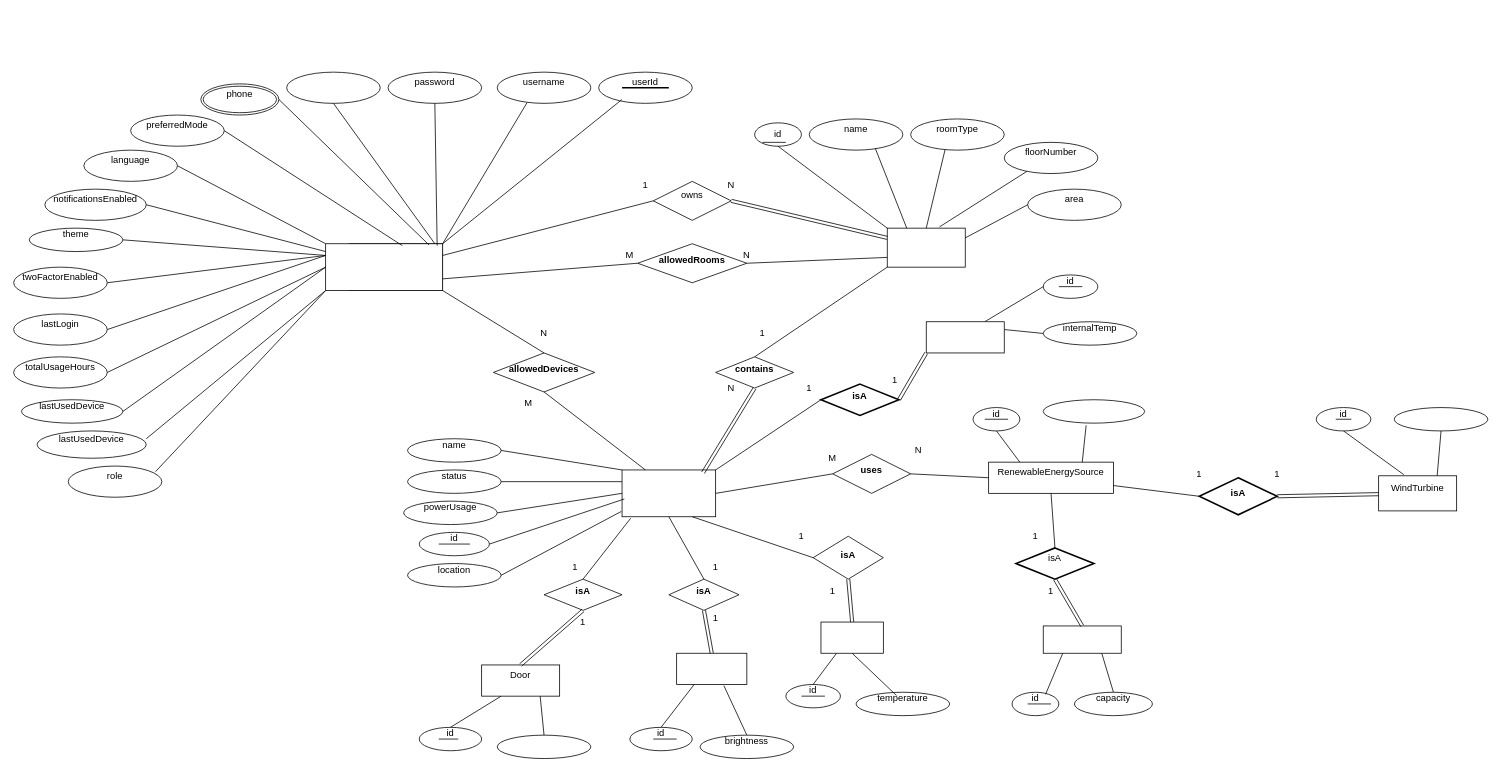
The diagram is 1502 pixels wide and 783 high, and some of its shapes have lost their labels. The shapes that lost their labels are listed below. From the top down, each one's centre as x and y in pixels, then its label:
point 333,87: email
point 384,267: user
point 925,247: Room
point 964,337: Refrigerator
point 1093,411: generatedPower
point 1440,419: speed
point 668,493: Device
point 851,637: AC
point 1081,639: SolarPanel
point 711,668: Light
point 543,746: isLocked
